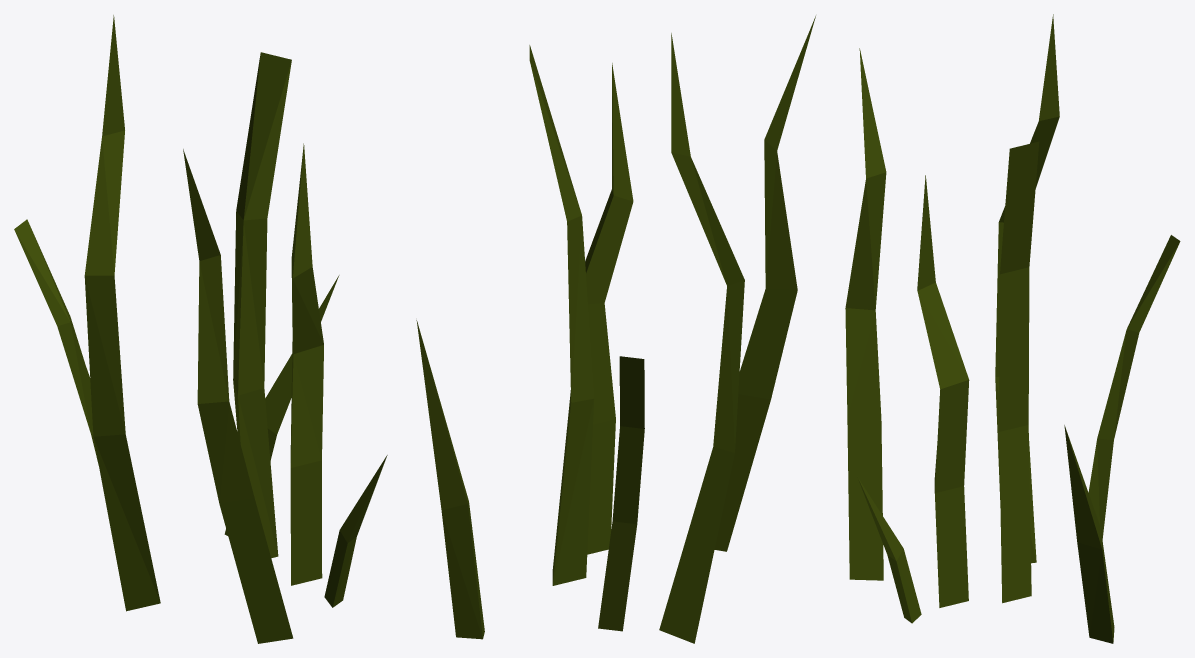
Rendered from Seaweed2.fbx.
The picture shows the model from 3 angles, left to right: view 1: azimuth 30°, elevation 25°; view 2: azimuth 150°, elevation 25°; view 3: azimuth 270°, elevation 25°; orthographic projection. The views are drawn at different scales.
Visible parts, largest first — view 1: Seaweed2; view 2: Seaweed2; view 3: Seaweed2.
Part boxes in pixels (box(x1,y1,x2,y2)): Seaweed2: box(14, 15, 387, 643); Seaweed2: box(416, 16, 815, 643); Seaweed2: box(845, 14, 1180, 643).
Bounding box in the file's own units: 57.37 × 114 × 62.71.
